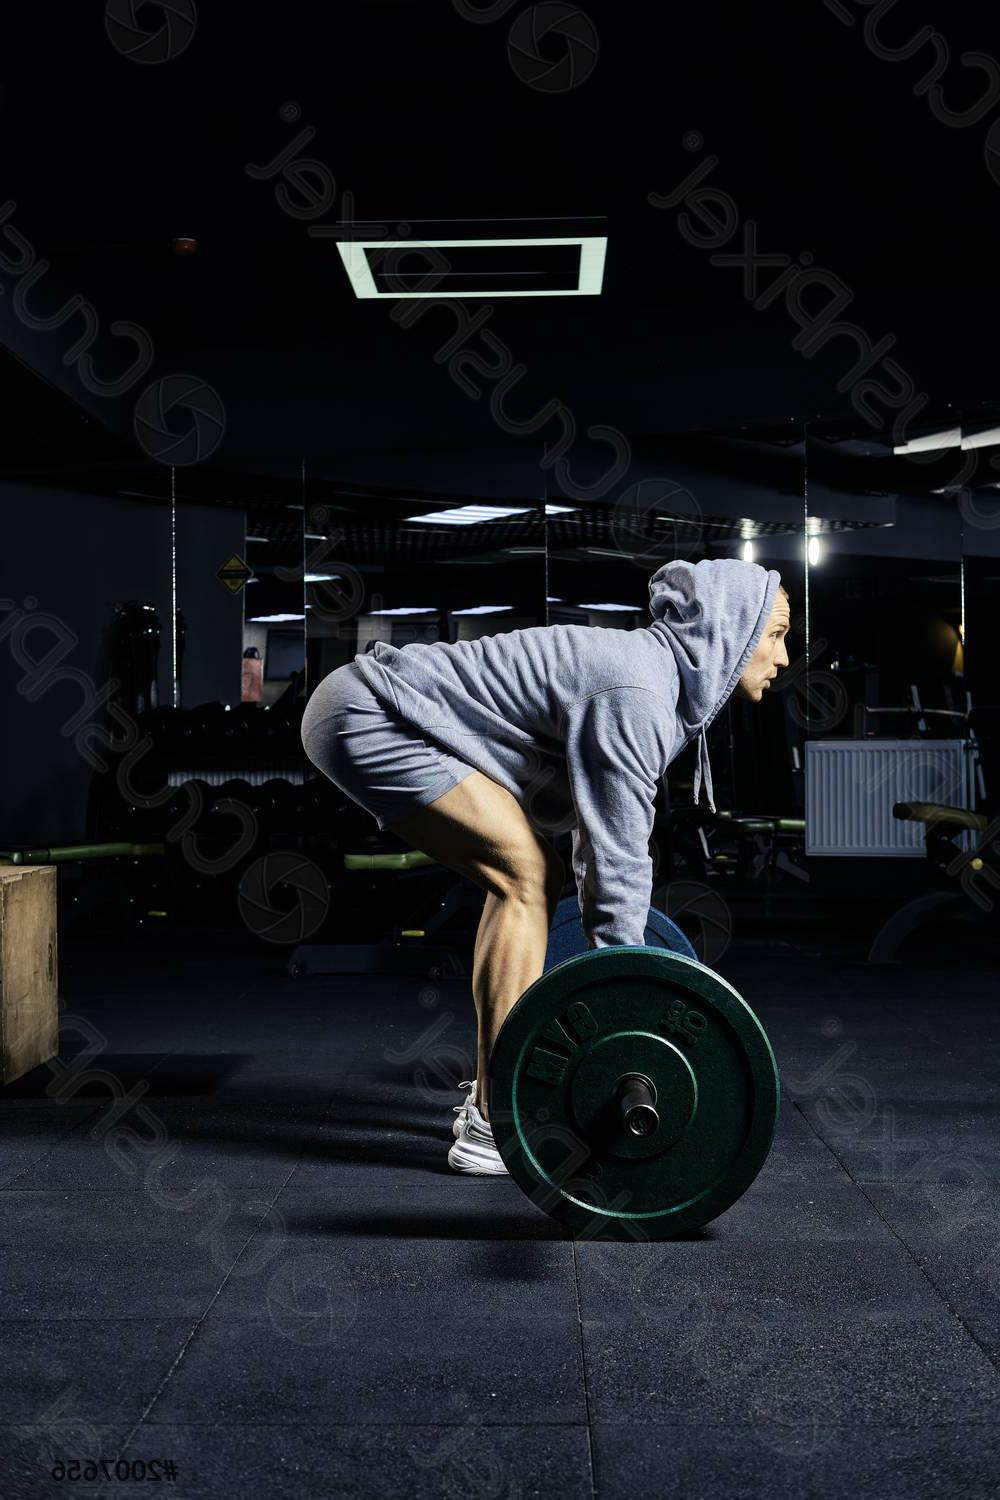Barbell: (615, 1099, 662, 1148)
